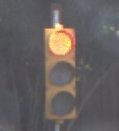Red: (39, 25, 81, 120)
